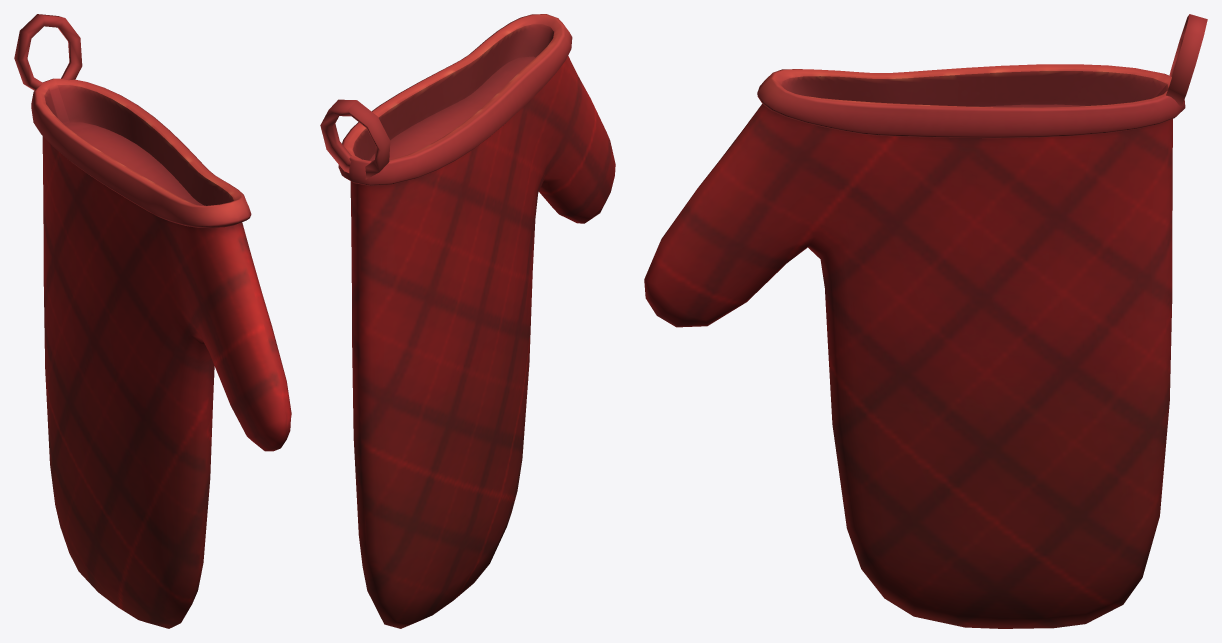
Rendered from SM_Glove.fbx.
3 renders of one model, left to right at view 1: azimuth 30°, elevation 25°; view 2: azimuth 150°, elevation 25°; view 3: azimuth 270°, elevation 25°, orthographic. The views are drawn at different scales.
Parts seen in each view (by area): view 1: SM_Glove_LOD0; view 2: SM_Glove_LOD0; view 3: SM_Glove_LOD0.
Boxes of the visible parts, left/top/right/bottom form: SM_Glove_LOD0: left=14, top=14, right=291, bottom=628; SM_Glove_LOD0: left=320, top=14, right=615, bottom=628; SM_Glove_LOD0: left=644, top=14, right=1207, bottom=628.
Size of the model in its own units: 4.44 by 21.09 by 25.29.
Materials: 1 (1 with a texture image).
